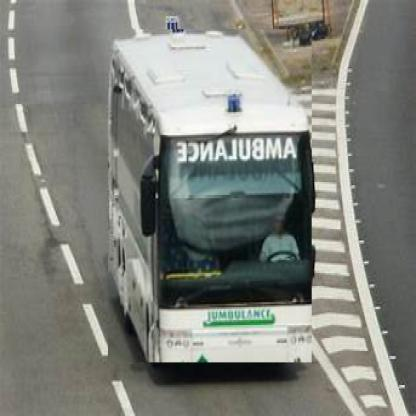bus: (109, 30, 314, 365)
